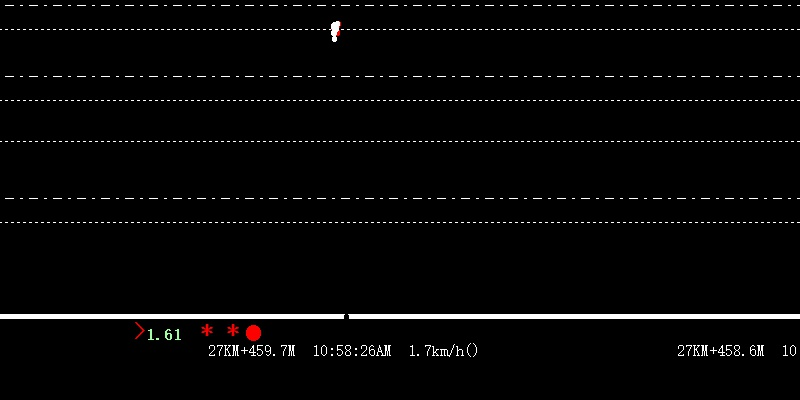circle: (244, 320, 261, 342)
face_s: (330, 18, 342, 42)
star: (198, 321, 216, 341), (224, 322, 242, 340)
